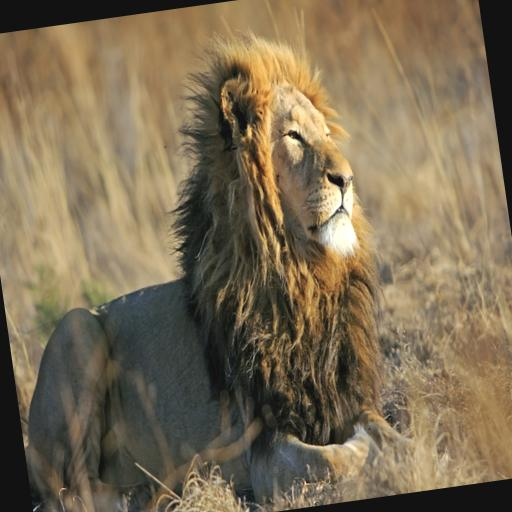lions: (98, 21, 511, 480)
